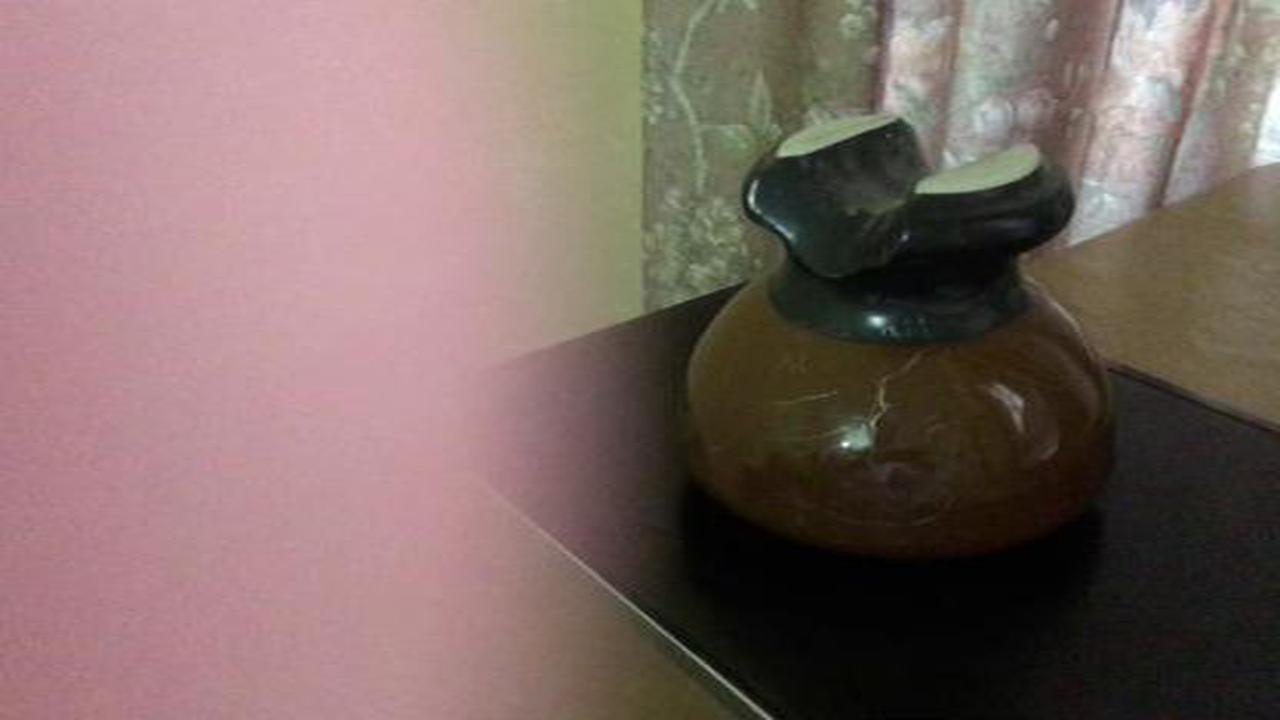insulator_pin: (668, 97, 1148, 580)
